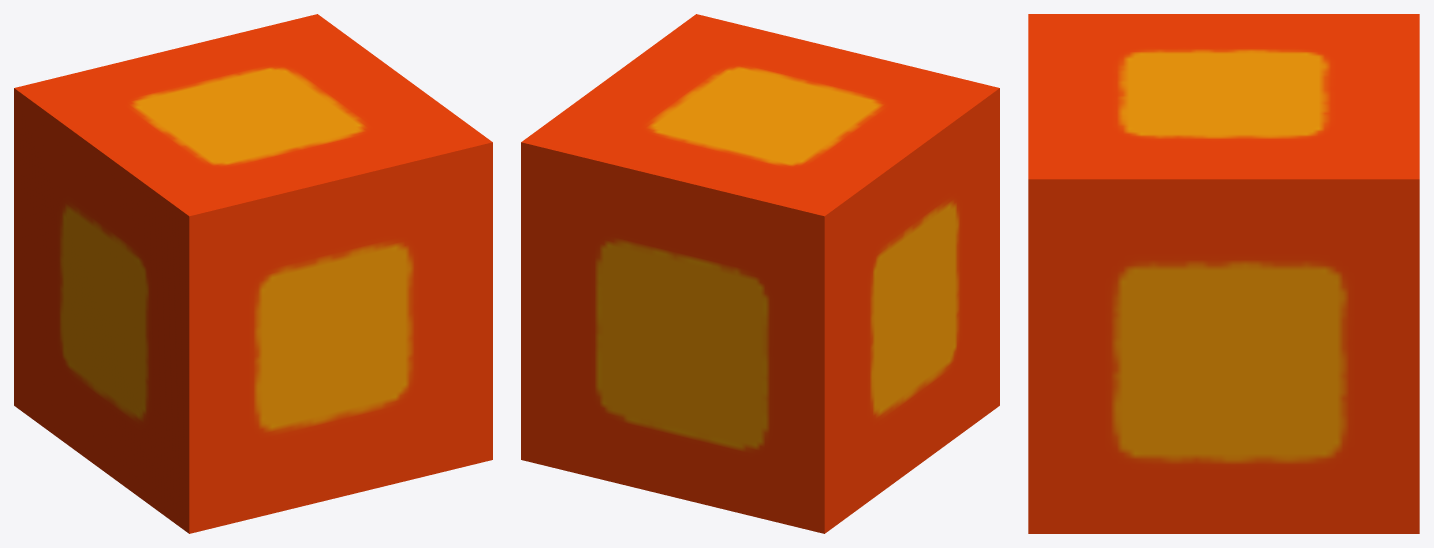
The model's file is Exhaust_Fire2.fbx.
3 views of the same model, side by side, from view 1: azimuth 30°, elevation 25°; view 2: azimuth 150°, elevation 25°; view 3: azimuth 270°, elevation 25° (orthographic). The views are drawn at different scales.
Parts seen in each view (by area): view 1: Cube; view 2: Cube; view 3: Cube.
Part boxes in pixels (<box>): Cube: <box>14,14,492,533</box>; Cube: <box>521,14,999,533</box>; Cube: <box>1028,14,1419,533</box>.
Bounding box in the file's own units: 200 × 200 × 200.
Materials: 2 (2 with a texture image).
